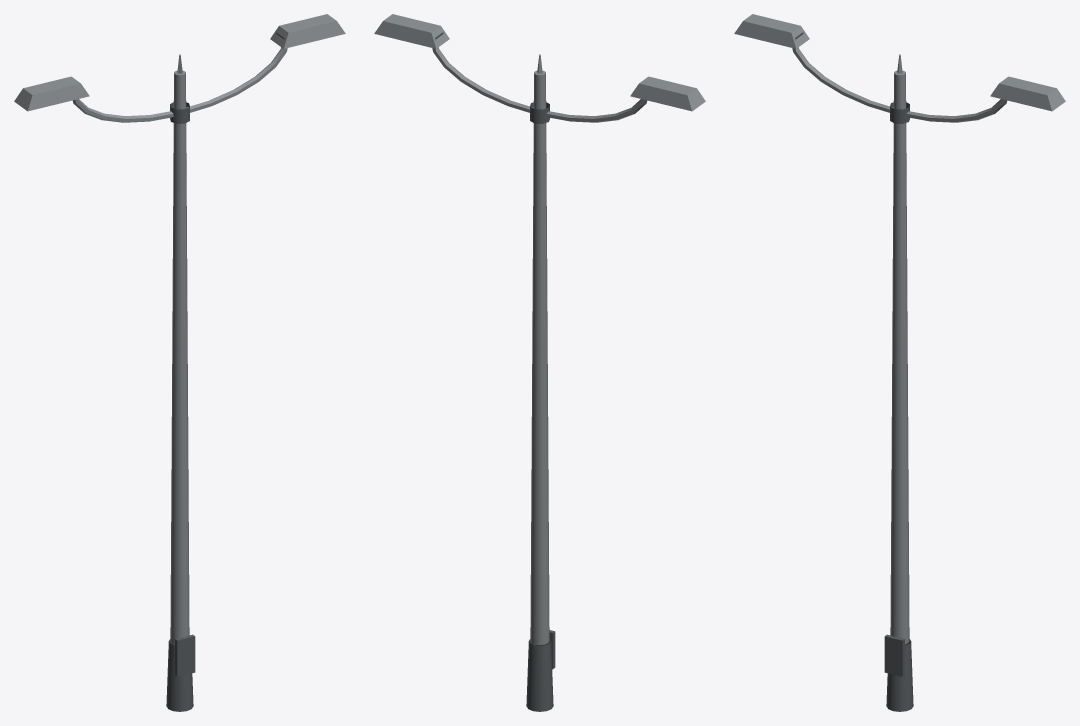
File: tokyo_streetlamp.glb
3 views of the same model, side by side, from view 1: azimuth 30°, elevation 25°; view 2: azimuth 150°, elevation 25°; view 3: azimuth 330°, elevation 25° (orthographic).
Visible parts, largest first — view 1: tokyo_streetlamp; view 2: tokyo_streetlamp; view 3: tokyo_streetlamp.
Boxes of the visible parts, left/top/right/bottom form: tokyo_streetlamp: left=14, top=14, right=345, bottom=711; tokyo_streetlamp: left=374, top=14, right=705, bottom=711; tokyo_streetlamp: left=734, top=14, right=1065, bottom=711.
Size of the model in its own units: 4.6 by 9 by 0.34.
Materials: 1 (1 with a texture image).
